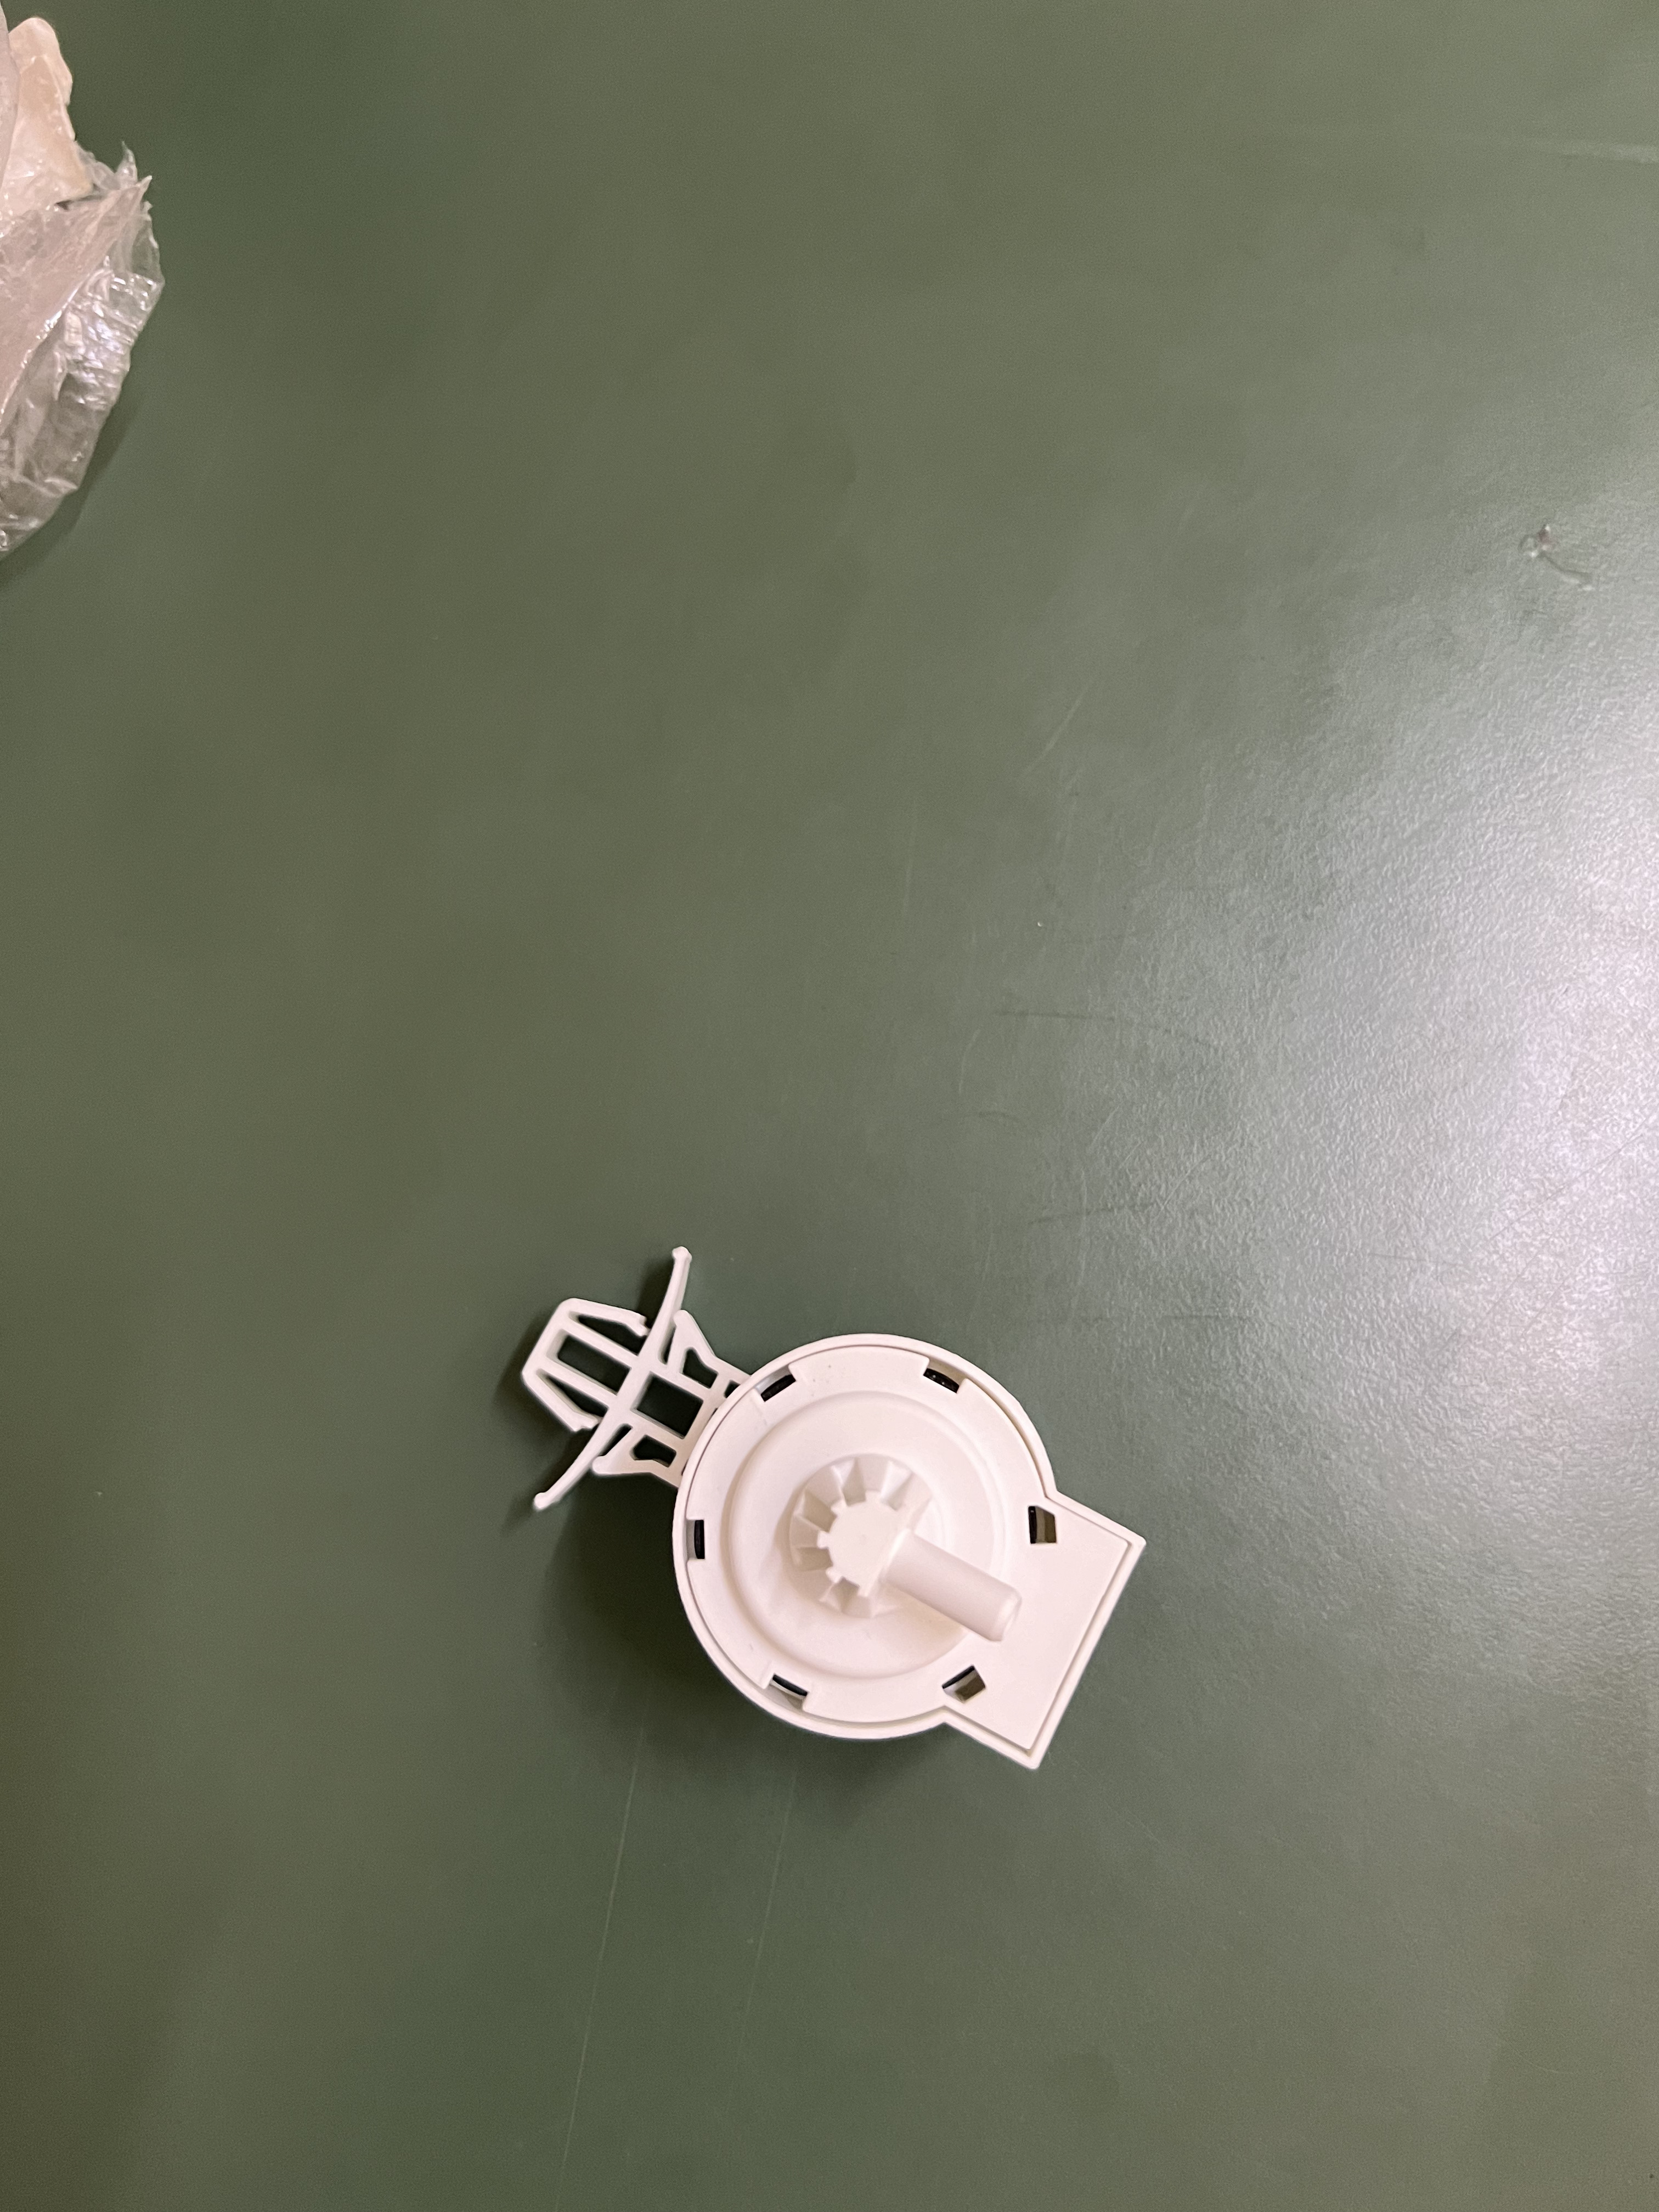pressure_switch_1: (488, 1221, 1154, 1797)
